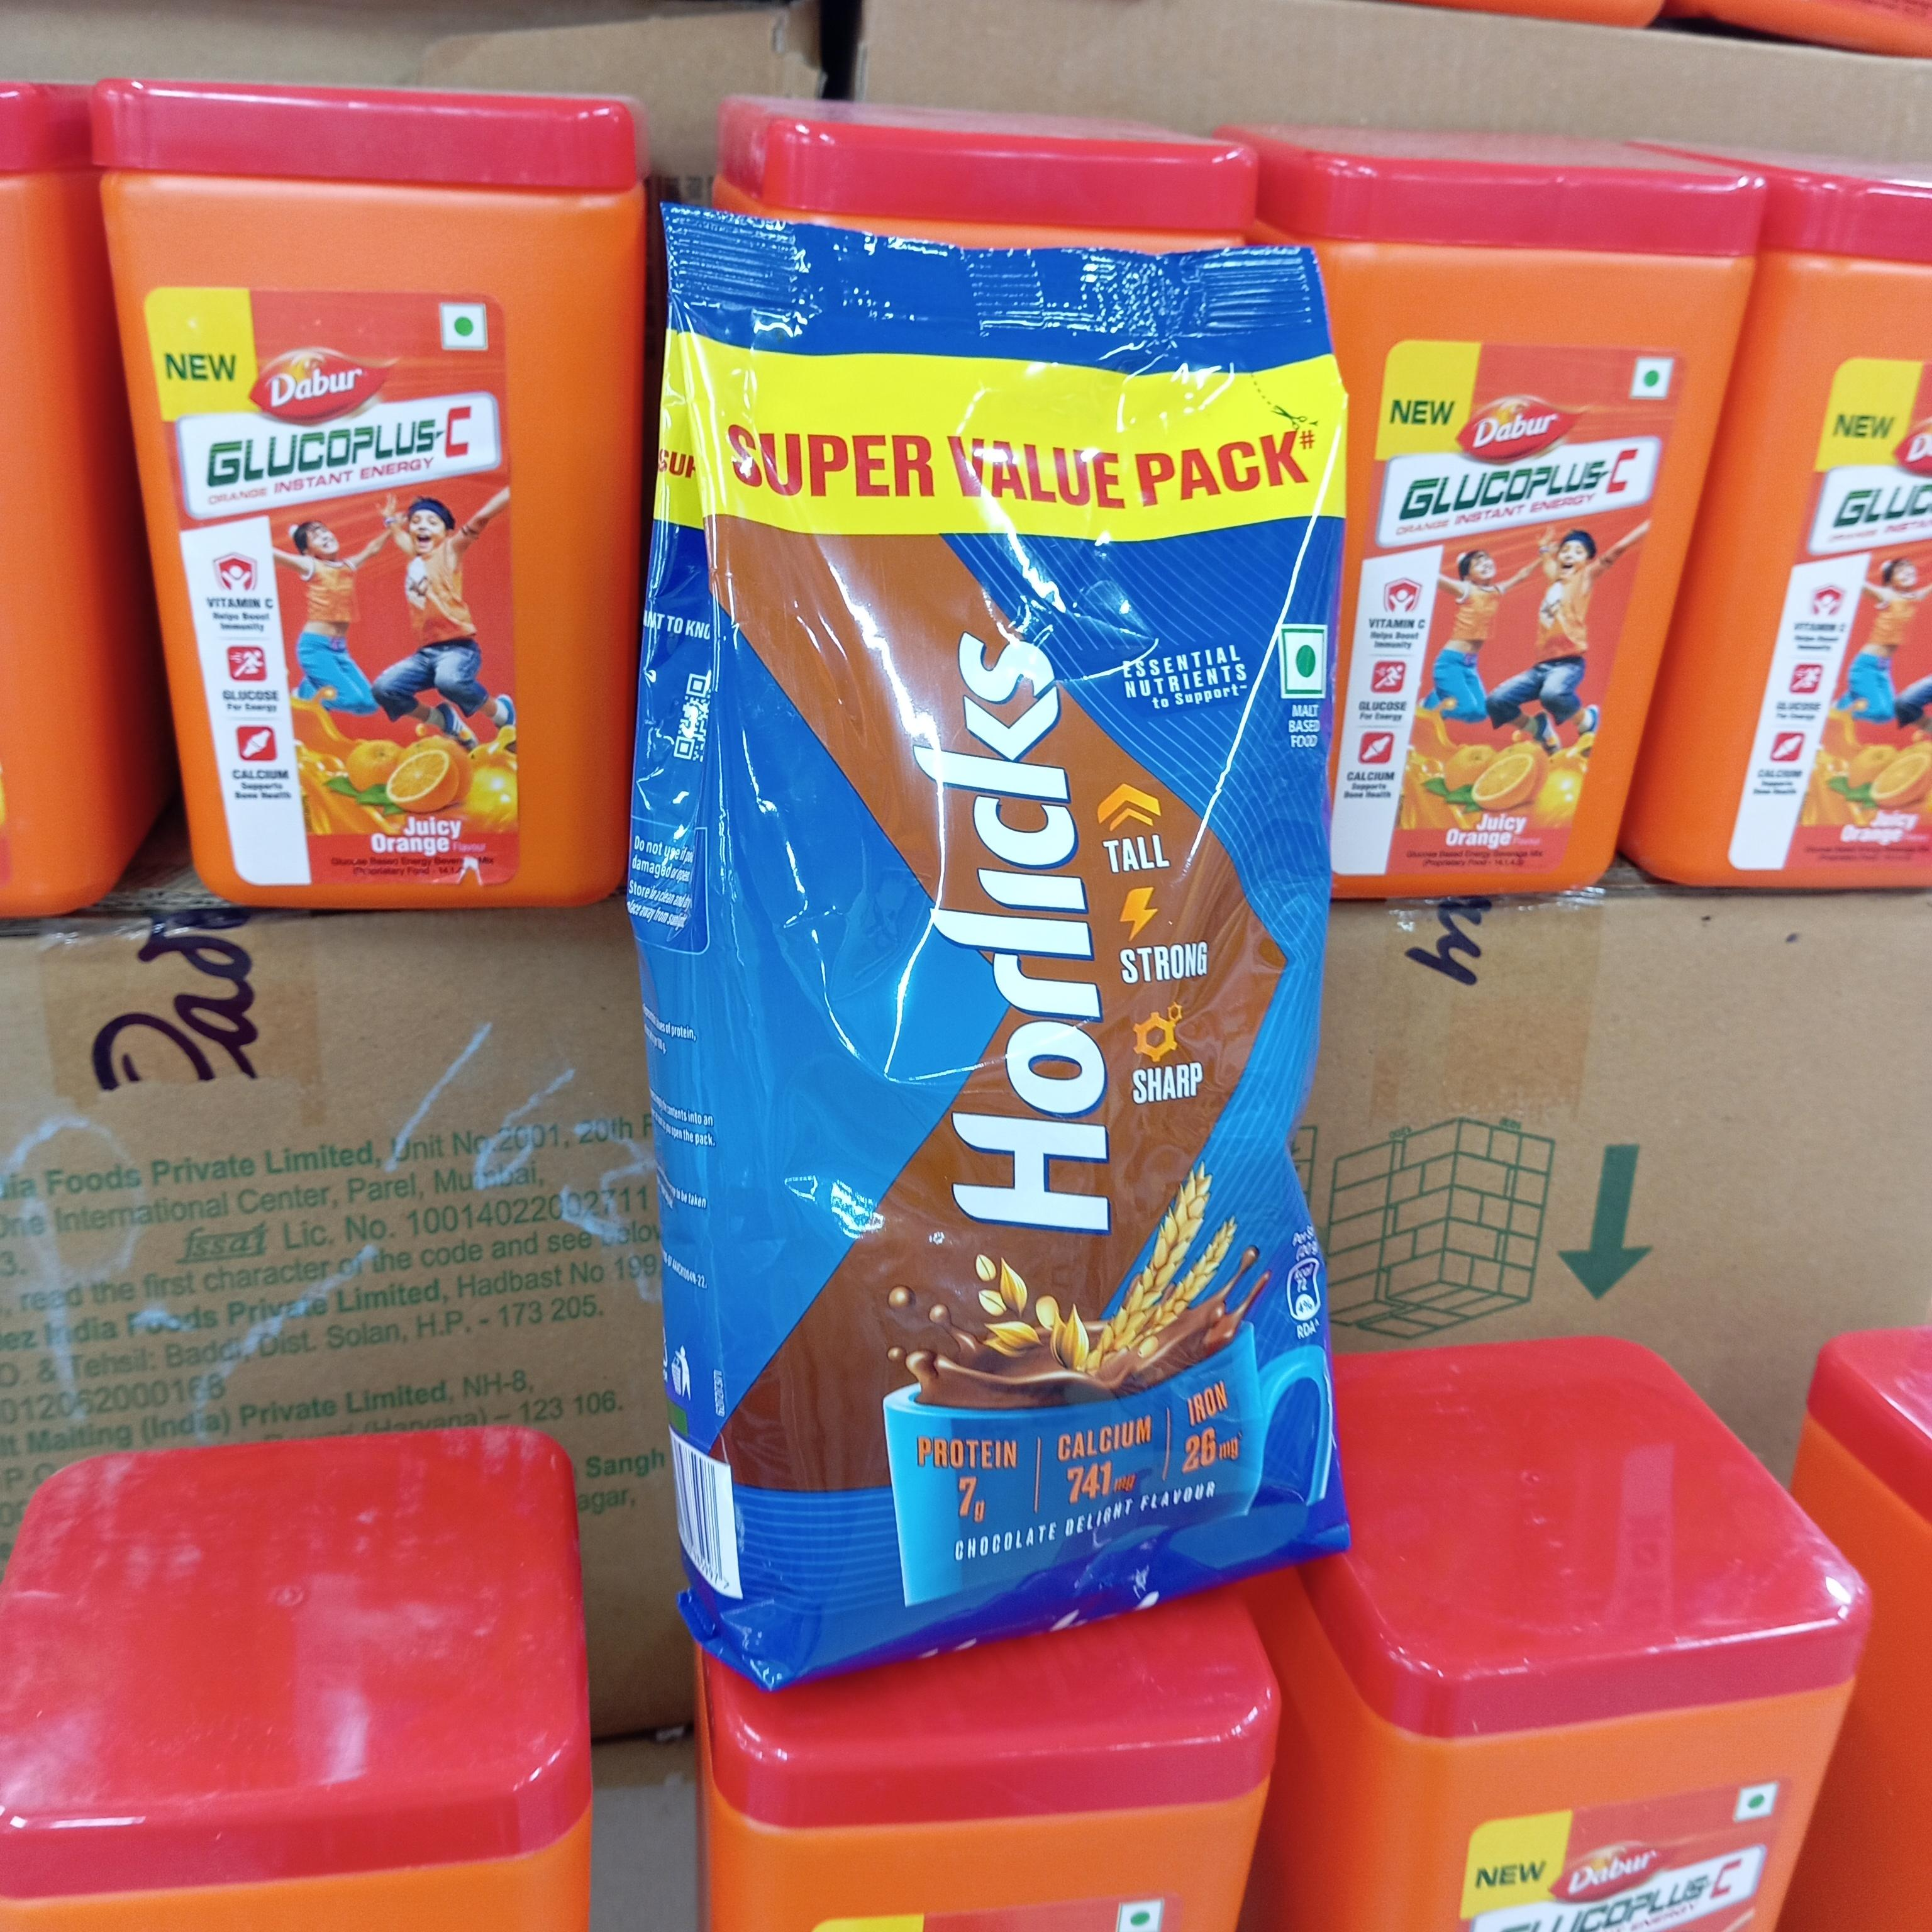HORLICK_CHOCOLATE_750_G_POUCH: (667, 189, 1355, 1612)
